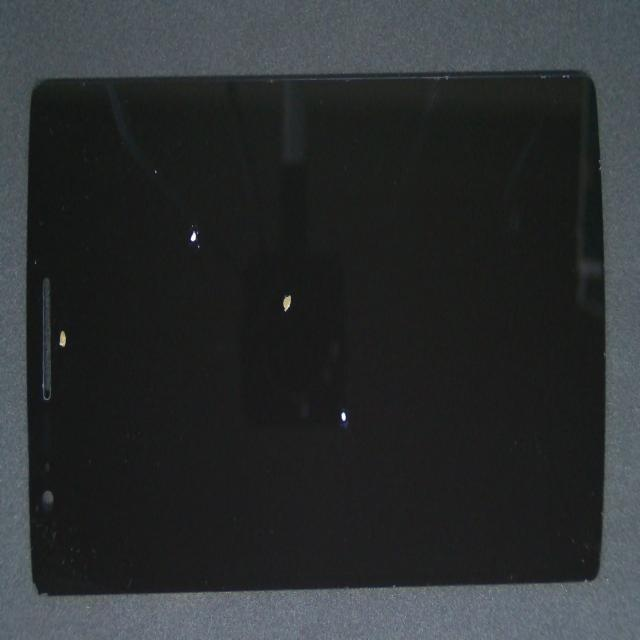stain: (182, 155, 514, 580), (160, 113, 424, 417), (64, 157, 301, 396), (6, 192, 88, 543)
